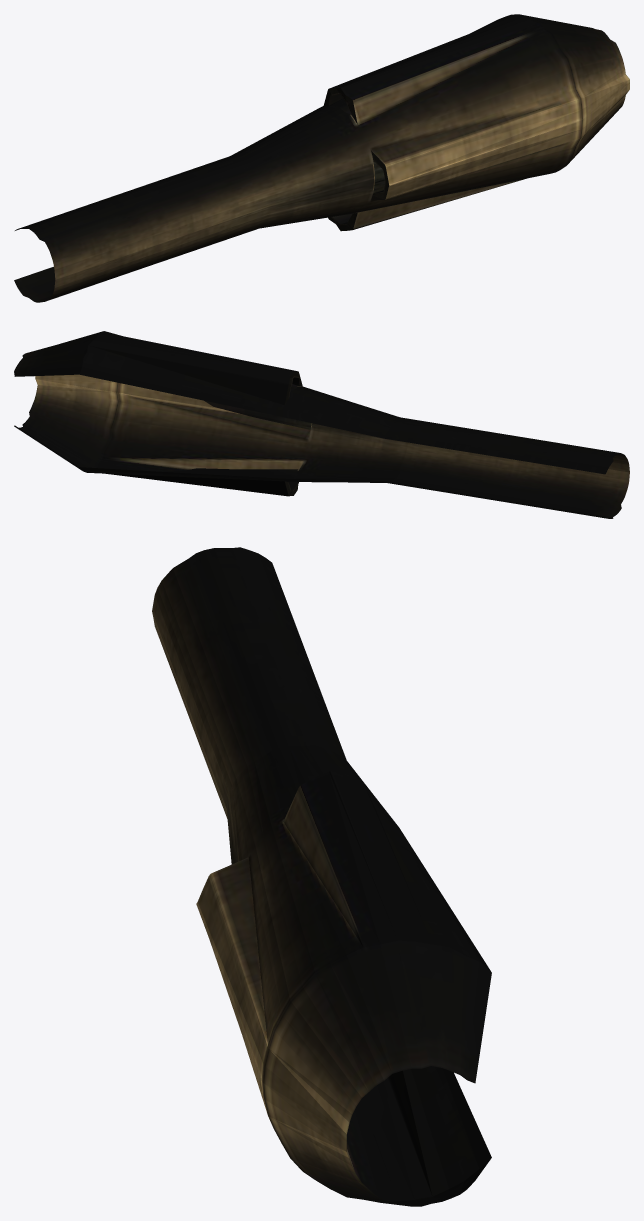
The model's file is v_rock2_1.obj.
3 views of the same model, one above another, from view 1: azimuth 30°, elevation 25°; view 2: azimuth 150°, elevation 25°; view 3: azimuth 270°, elevation 25° (orthographic). The views are drawn at different scales.
Size of the model in its own units: 46.54 by 10.5 by 12.42.
1 material, 1 textured.
